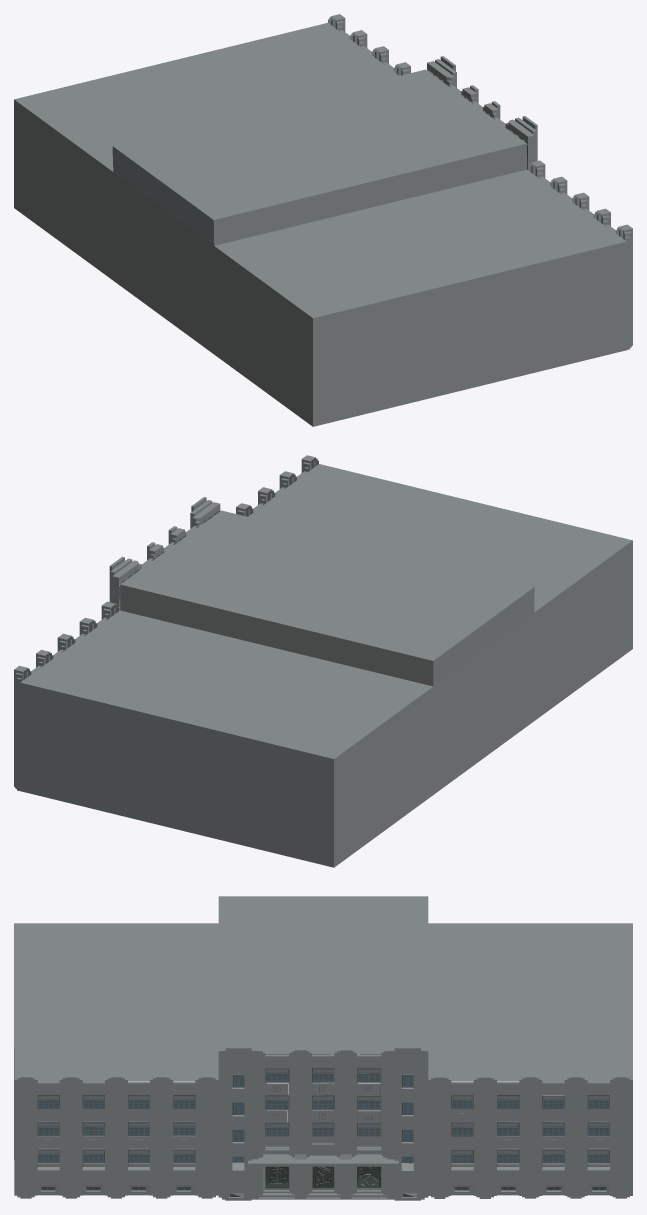
File: CorreosChile.fbx
3 renders of one model, top to bottom at view 1: azimuth 30°, elevation 25°; view 2: azimuth 150°, elevation 25°; view 3: azimuth 270°, elevation 25°, orthographic. The views are drawn at different scales.
Visible parts, largest first — view 1: Plano.008; view 2: Plano.008; view 3: Plano.008.
Part boxes in pixels (x1,y1,x2,y2): Plano.008: (14,14,632,426); Plano.008: (14,455,632,867); Plano.008: (14,896,632,1200).
Size of the model in its own units: 1059 by 447 by 1646.
